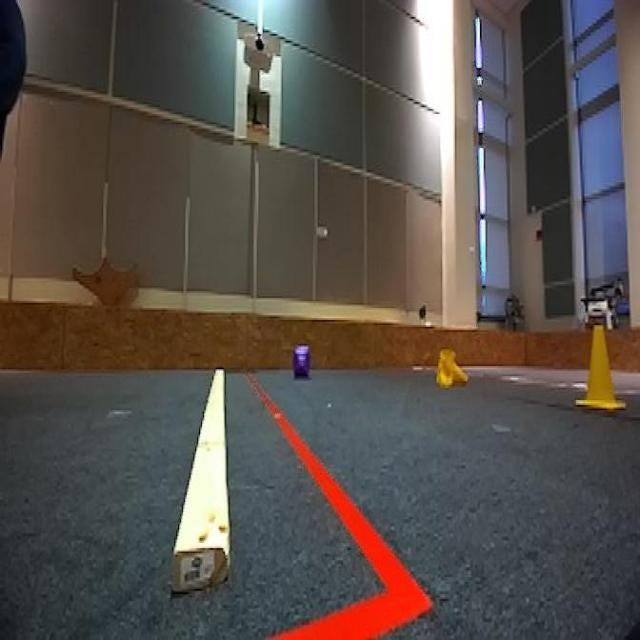frc_cone: (574, 322, 623, 410), (432, 345, 471, 390)
frc_cube: (292, 346, 310, 380)
